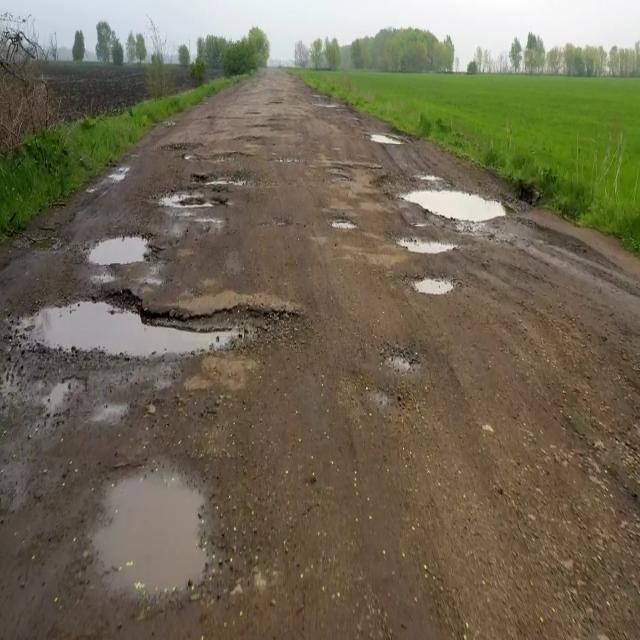road-pothole: (24, 291, 262, 359), (99, 466, 204, 601), (399, 192, 512, 223), (88, 233, 154, 267), (162, 188, 224, 215), (399, 238, 449, 260), (413, 279, 451, 301), (389, 360, 420, 375), (373, 132, 401, 148), (328, 217, 354, 230)
